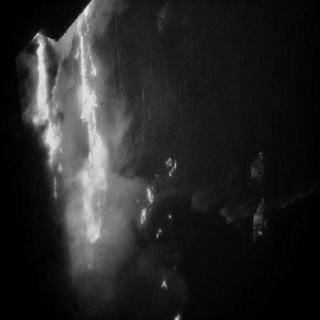Fire: (29, 11, 114, 263), (135, 149, 187, 315)
